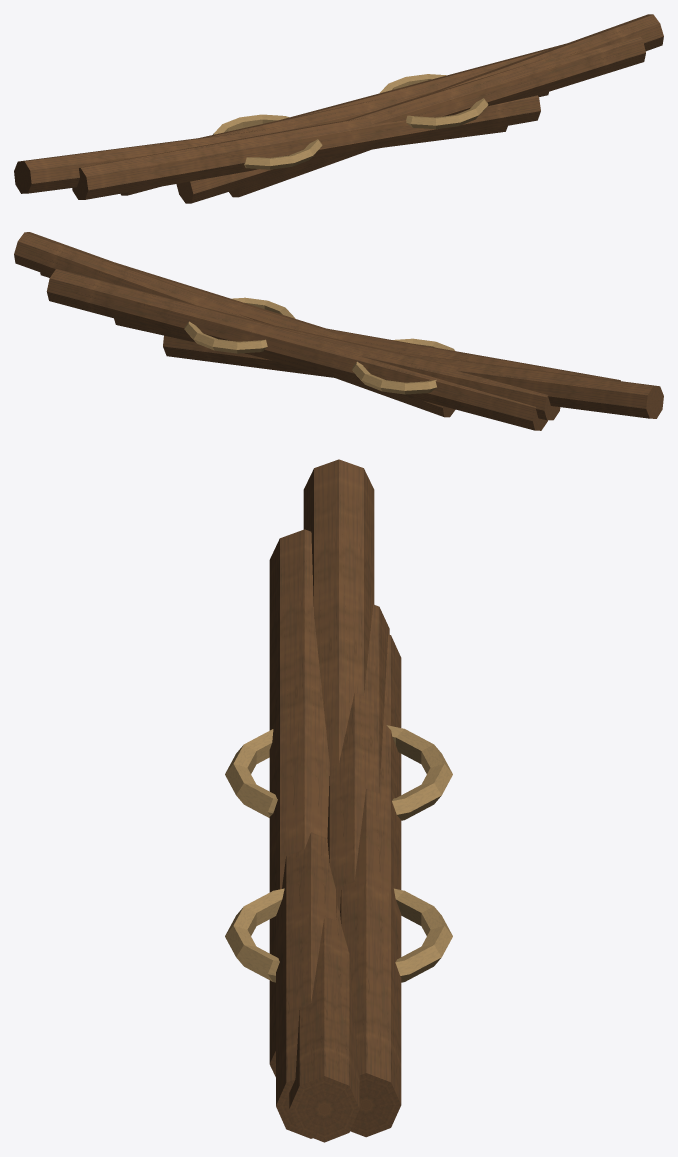
The model's file is pr-003_wood_poles_bundle__bundle.obj.
3 renders of one model, top to bottom at view 1: azimuth 30°, elevation 25°; view 2: azimuth 150°, elevation 25°; view 3: azimuth 270°, elevation 25°, orthographic. The views are drawn at different scales.
Visible parts, largest first — view 1: pr-003_wood_poles_bundle__bundle; view 2: pr-003_wood_poles_bundle__bundle; view 3: pr-003_wood_poles_bundle__bundle.
Boxes of the visible parts, x1,y1,x2,y2 form: pr-003_wood_poles_bundle__bundle: (14, 14, 663, 203); pr-003_wood_poles_bundle__bundle: (14, 232, 663, 430); pr-003_wood_poles_bundle__bundle: (225, 459, 452, 1142).
Bounding box in the file's own units: 1.87 × 0.2441 × 0.292.
Materials: 2 (2 with a texture image).
